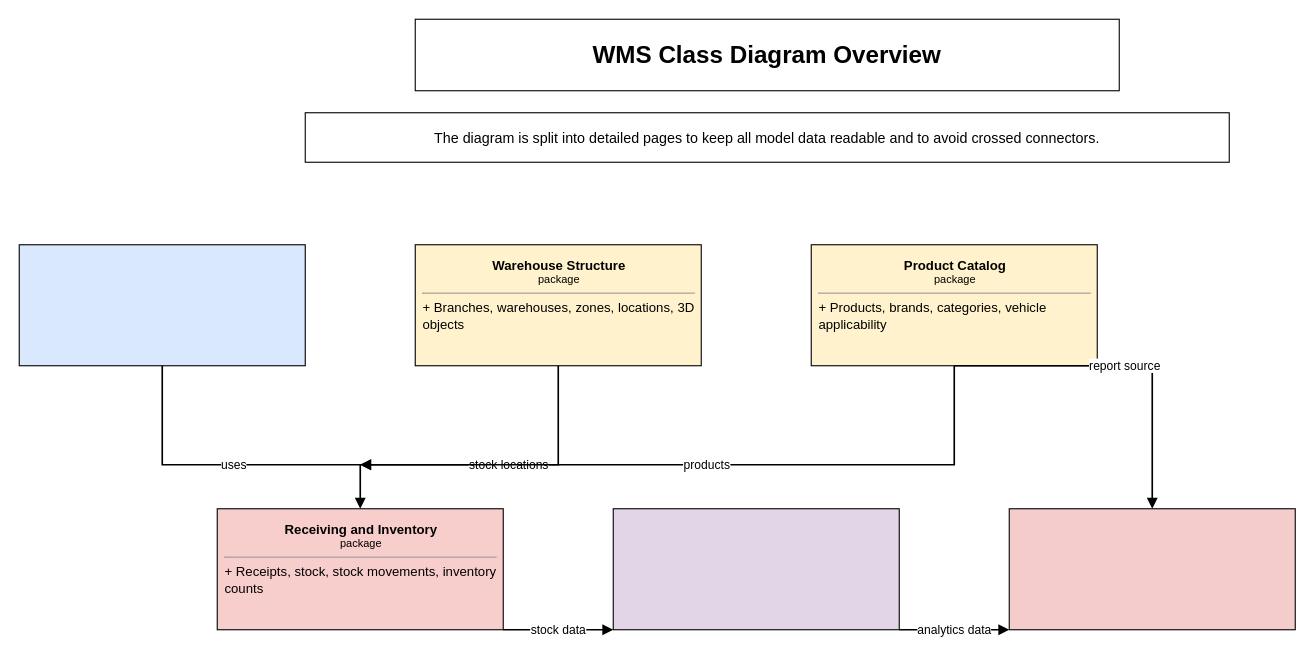
Some shapes in this 1315 by 659 pixel diagram are drawn without their labels. Each missing label, with the centre of its shape:
"Accounts package + Users, roles, API tokens, notifications" goes at pixel 161 305.
"Orders and Picking package + Orders, order lines, picking tasks, warehouse tasks" goes at pixel 755 569.
"Reports package + ABC-XYZ, dead stock, picking errors, demand forecast" goes at pixel 1151 569.
